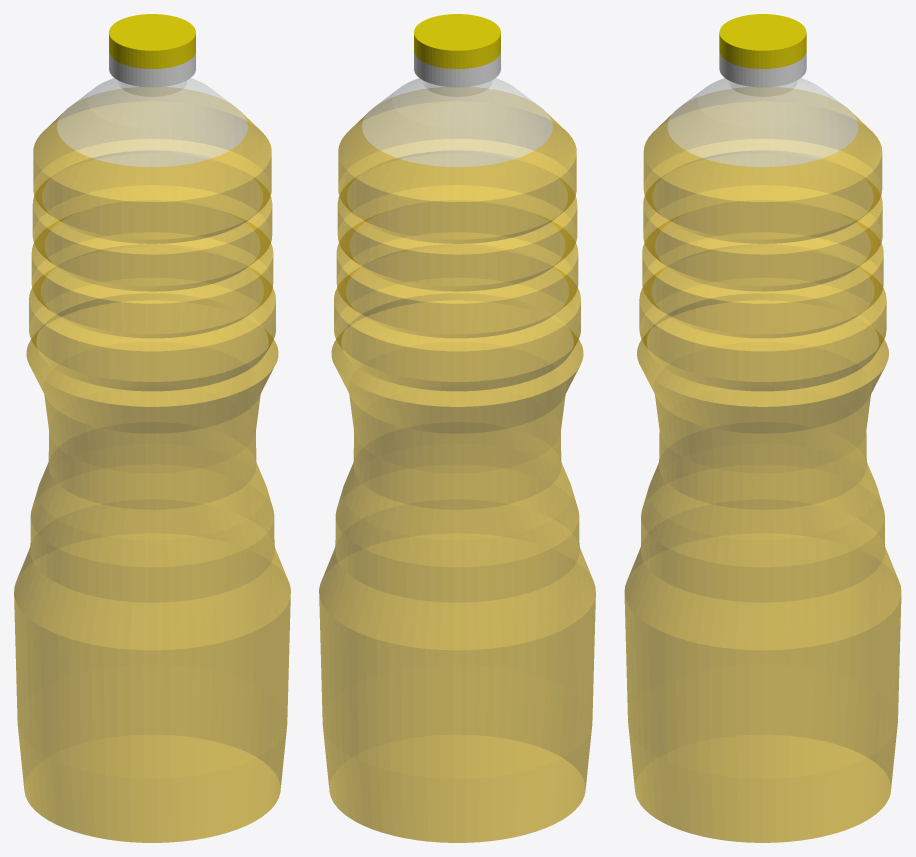
Rendered from Oil.fbx.
The picture shows the model from 3 angles, left to right: view 1: azimuth 30°, elevation 25°; view 2: azimuth 150°, elevation 25°; view 3: azimuth 270°, elevation 25°; orthographic projection.
Visible parts, largest first — view 1: Цилиндр; view 2: Цилиндр; view 3: Цилиндр.
Boxes of the visible parts, box(x1,y1,x2,y2) form: Цилиндр: box(14, 14, 290, 842); Цилиндр: box(319, 14, 595, 842); Цилиндр: box(624, 14, 901, 842).
Size of the model in its own units: 0.8971 by 2.7 by 0.8971.
